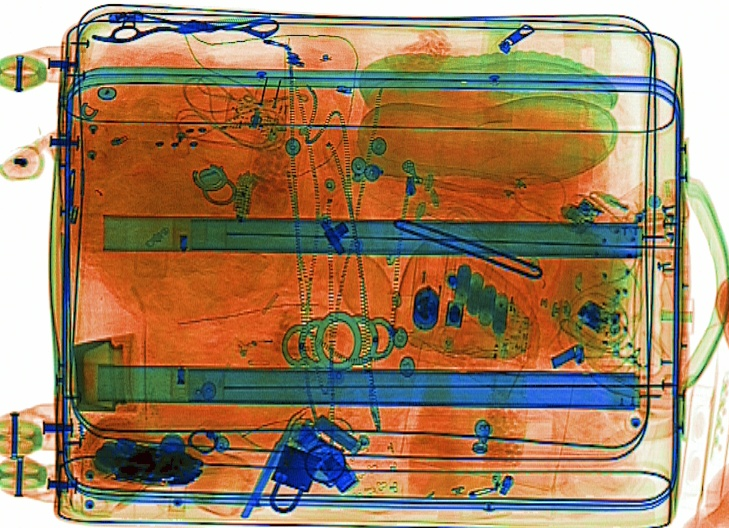powerbank: (451, 263, 532, 352)
